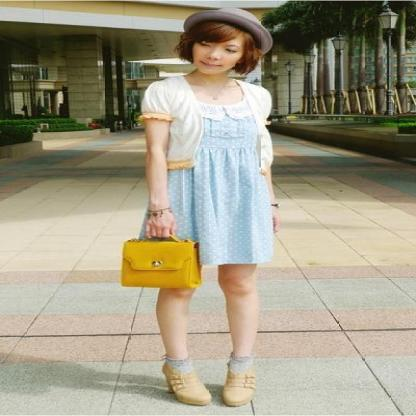bag: (121, 227, 200, 288)
dress: (168, 98, 278, 267)
hat: (183, 1, 281, 53)
jacket: (142, 75, 272, 174)
shoe: (170, 366, 268, 406)
